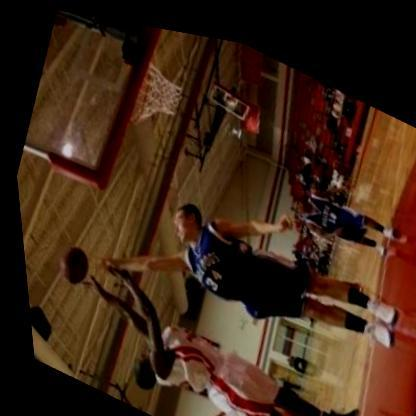basketball: (44, 234, 94, 290)
